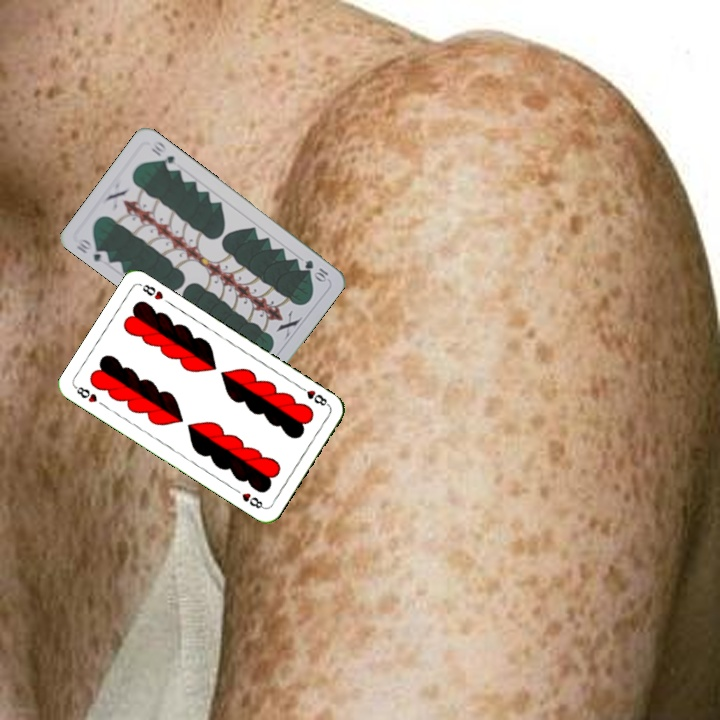G10: (72, 234, 111, 266), (301, 256, 332, 284)
H8: (295, 382, 332, 409), (71, 382, 100, 405)
